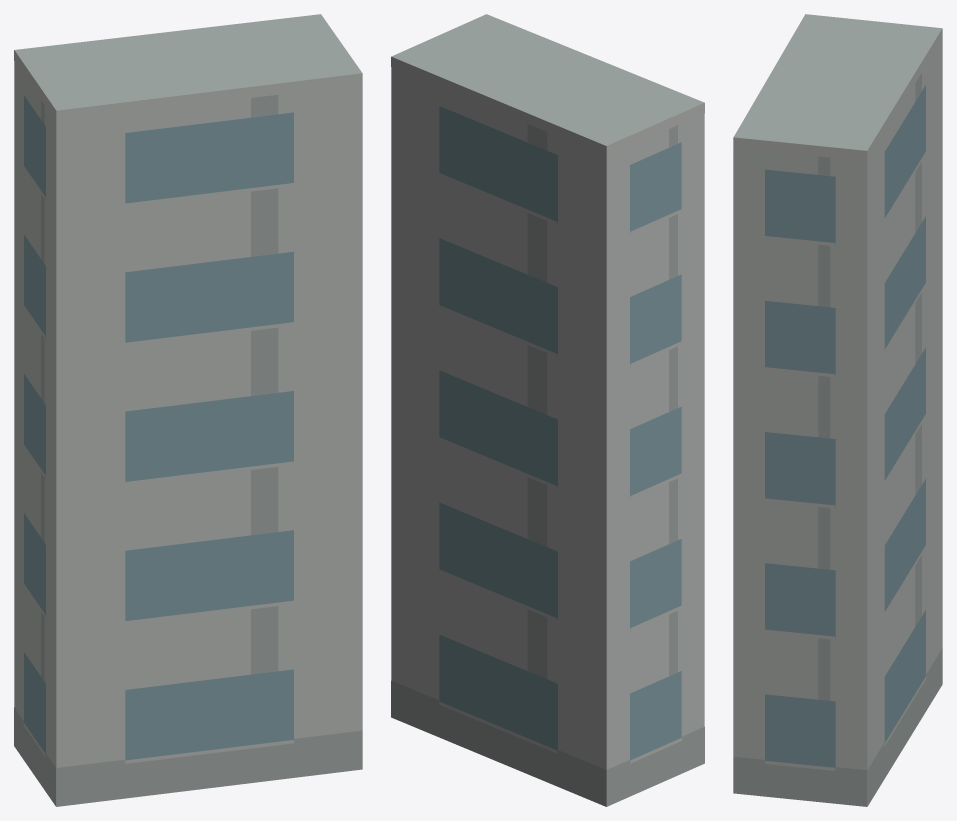
File: survey-upis-32737159.glb
3 views of the same model, side by side, from view 1: azimuth 30°, elevation 25°; view 2: azimuth 150°, elevation 25°; view 3: azimuth 270°, elevation 25° (orthographic). The views are drawn at different scales.
Visible parts, largest first — view 1: survey-upis-32737159.tmp; view 2: survey-upis-32737159.tmp; view 3: survey-upis-32737159.tmp.
Part boxes in pixels (x1,y1,x2,y2): survey-upis-32737159.tmp: (14, 14, 362, 806); survey-upis-32737159.tmp: (391, 14, 704, 806); survey-upis-32737159.tmp: (733, 14, 942, 806).
Bounding box in the file's own units: 6.83 × 15.25 × 4.42.
